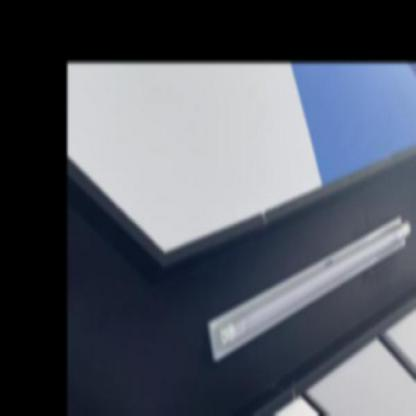light_off: (199, 197, 415, 374)
